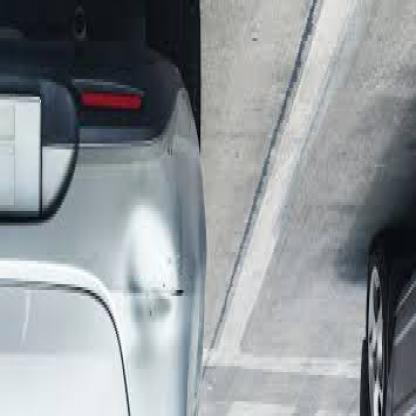dent: (122, 192, 183, 362)
